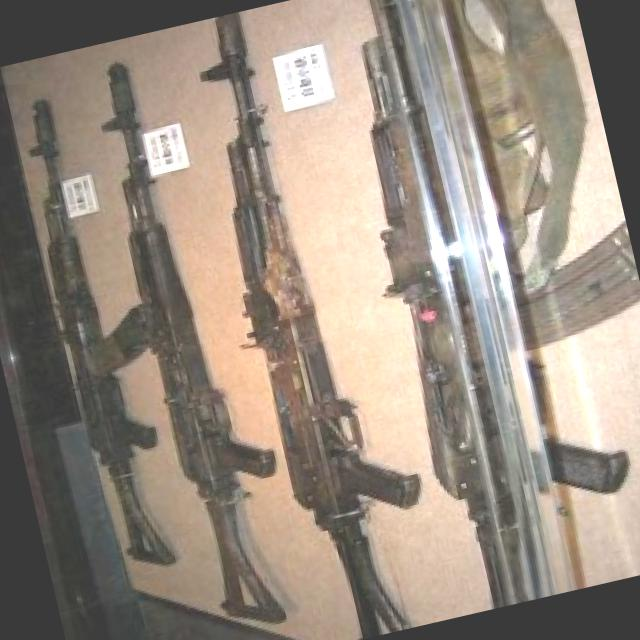long weapon: (319, 0, 639, 612), (166, 32, 424, 608), (74, 70, 290, 542), (11, 116, 187, 543)
